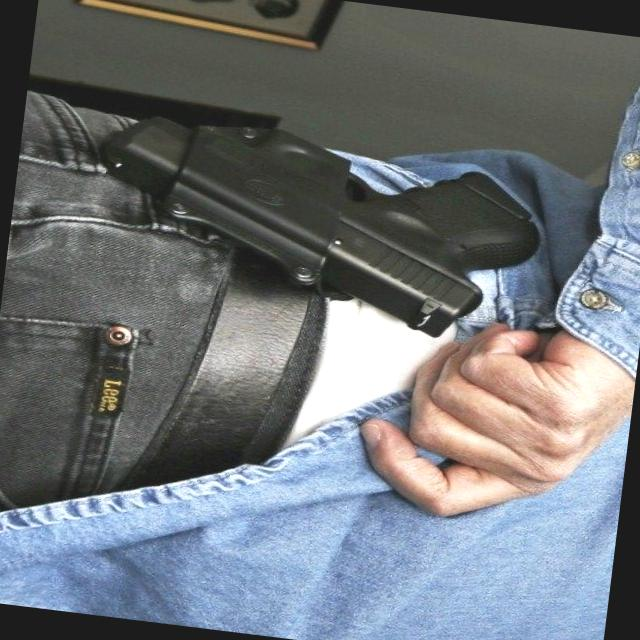handgun: (70, 81, 558, 355)
